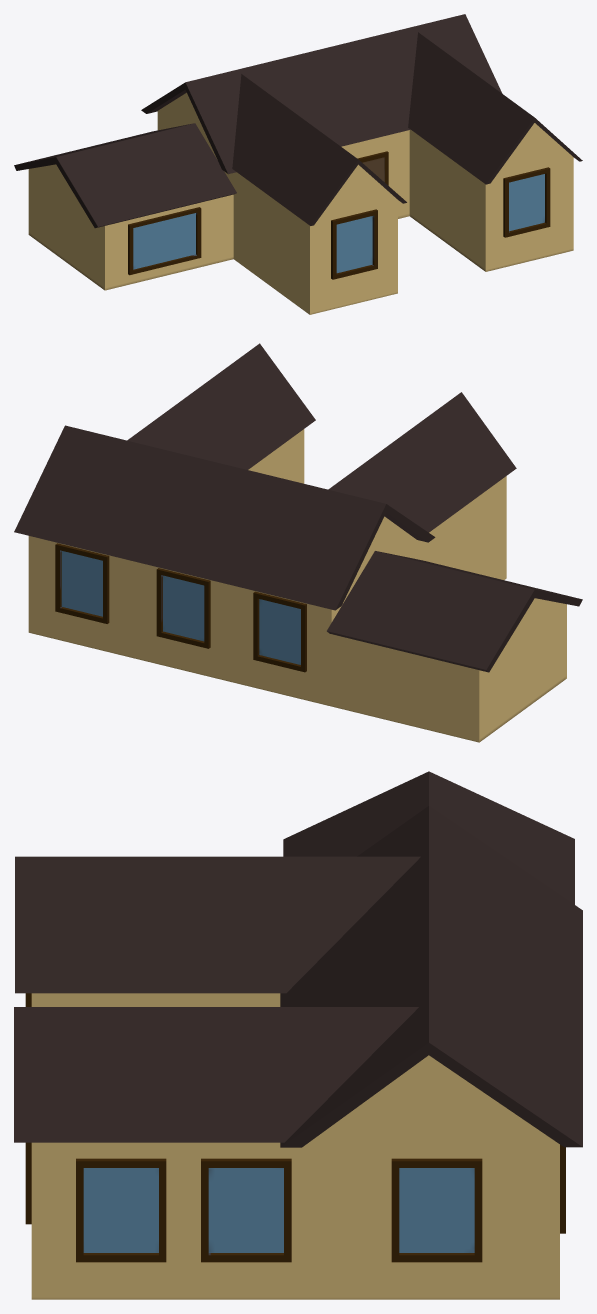
Rendered from OSHouse02.glb.
3 views of the same model, one above another, from view 1: azimuth 30°, elevation 25°; view 2: azimuth 150°, elevation 25°; view 3: azimuth 270°, elevation 25° (orthographic). The views are drawn at different scales.
Visible parts, largest first — view 1: OSHouse02Roof, OSHouse02; view 2: OSHouse02Roof, OSHouse02; view 3: OSHouse02Roof, OSHouse02.
Boxes of the visible parts, bbox=[...] form: OSHouse02Roof: bbox=[14, 14, 582, 228]; OSHouse02: bbox=[28, 92, 573, 314]; OSHouse02Roof: bbox=[14, 343, 582, 672]; OSHouse02: bbox=[28, 429, 566, 742]; OSHouse02Roof: bbox=[14, 771, 582, 1147]; OSHouse02: bbox=[25, 993, 565, 1299].
Size of what is drawn, in the model's own units: 8.25 by 2.91 by 5.73.
2 materials, 1 textured.
